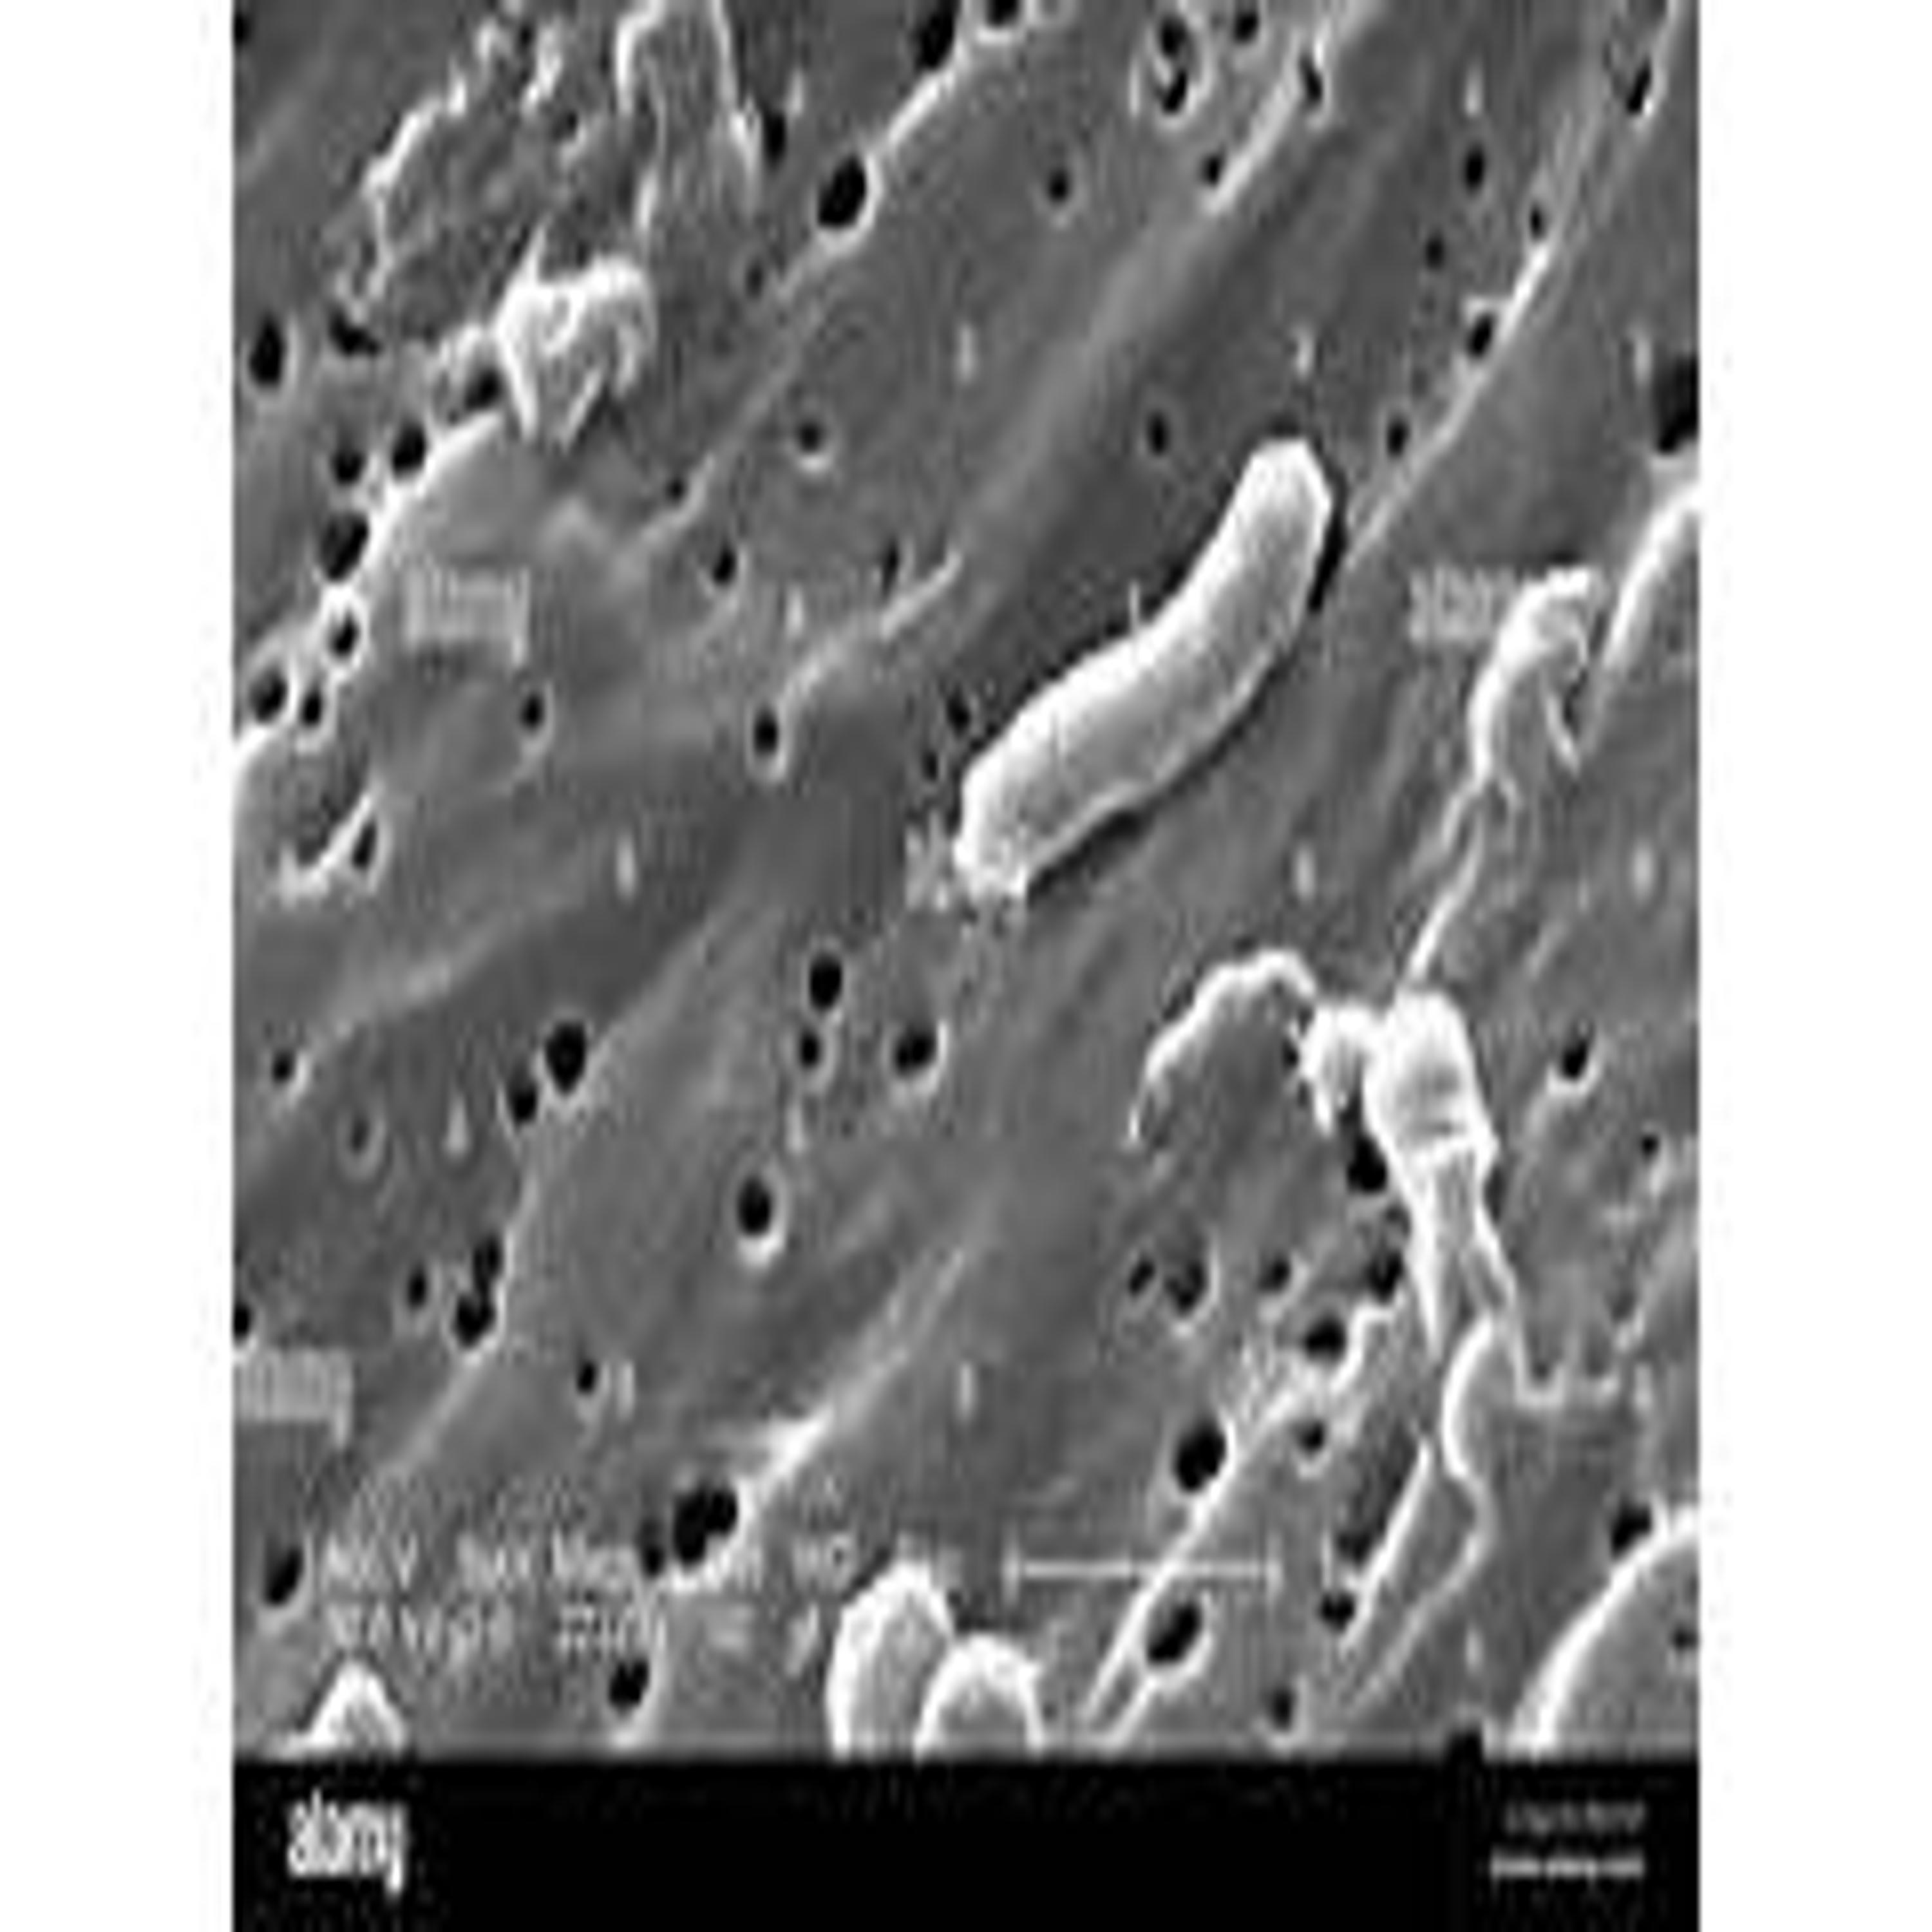Vibrio_cholerae5: (947, 432, 1332, 908)
